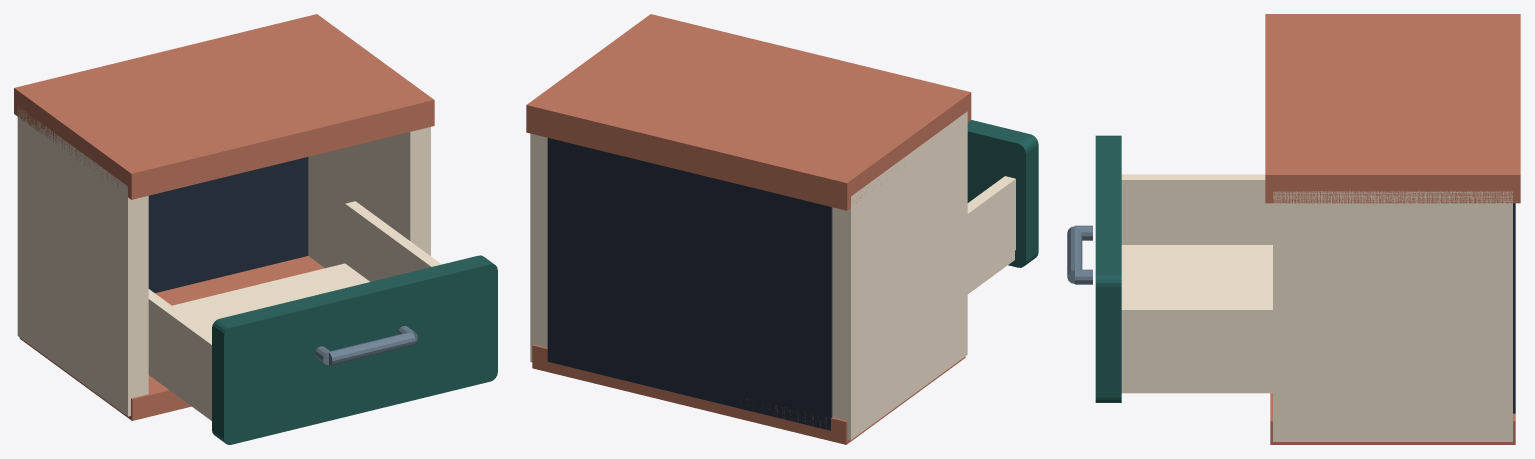
Rendered from drawer.glb.
3 views of the same model, side by side, from view 1: azimuth 30°, elevation 25°; view 2: azimuth 150°, elevation 25°; view 3: azimuth 270°, elevation 25° (orthographic). The views are drawn at different scales.
Parts seen in each view (by area): view 1: top, drawer front, side -0.68, back, side 0.68, tray, tray side -0.59, tray side 0.59, bottom, drawer grip1; view 2: back, top, side -0.68, drawer front, bottom, tray side -0.59, side 0.68; view 3: side 0.68, top, tray side 0.59, tray, tray side -0.59, drawer front, bottom, drawer grip1, back.
Part boxes in pixels (bbox=[...]): top: bbox=[14, 14, 434, 199]; drawer front: bbox=[212, 255, 497, 444]; side -0.68: bbox=[17, 106, 148, 416]; back: bbox=[148, 157, 308, 292]; side 0.68: bbox=[308, 127, 430, 268]; tray: bbox=[148, 263, 369, 420]; tray side -0.59: bbox=[148, 289, 211, 411]; tray side 0.59: bbox=[345, 201, 441, 281]; bottom: bbox=[19, 256, 324, 420]; drawer grip1: bbox=[329, 332, 415, 365]; back: bbox=[547, 138, 832, 430]; top: bbox=[526, 14, 971, 210]; side -0.68: bbox=[832, 111, 967, 439]; drawer front: bbox=[967, 120, 1038, 267]; bottom: bbox=[532, 344, 965, 444]; tray side -0.59: bbox=[967, 176, 1015, 284]; side 0.68: bbox=[530, 133, 547, 362]; side 0.68: bbox=[1273, 191, 1512, 441]; top: bbox=[1265, 14, 1520, 203]; tray side 0.59: bbox=[1121, 304, 1272, 383]; tray: bbox=[1121, 245, 1272, 393]; tray side -0.59: bbox=[1121, 174, 1272, 244]; drawer front: bbox=[1095, 135, 1121, 402]; bottom: bbox=[1270, 393, 1515, 444]; drawer grip1: bbox=[1067, 226, 1082, 283]; back: bbox=[1513, 203, 1515, 413].
Size of the model in its own units: 1.46 by 1.15 by 1.74.
